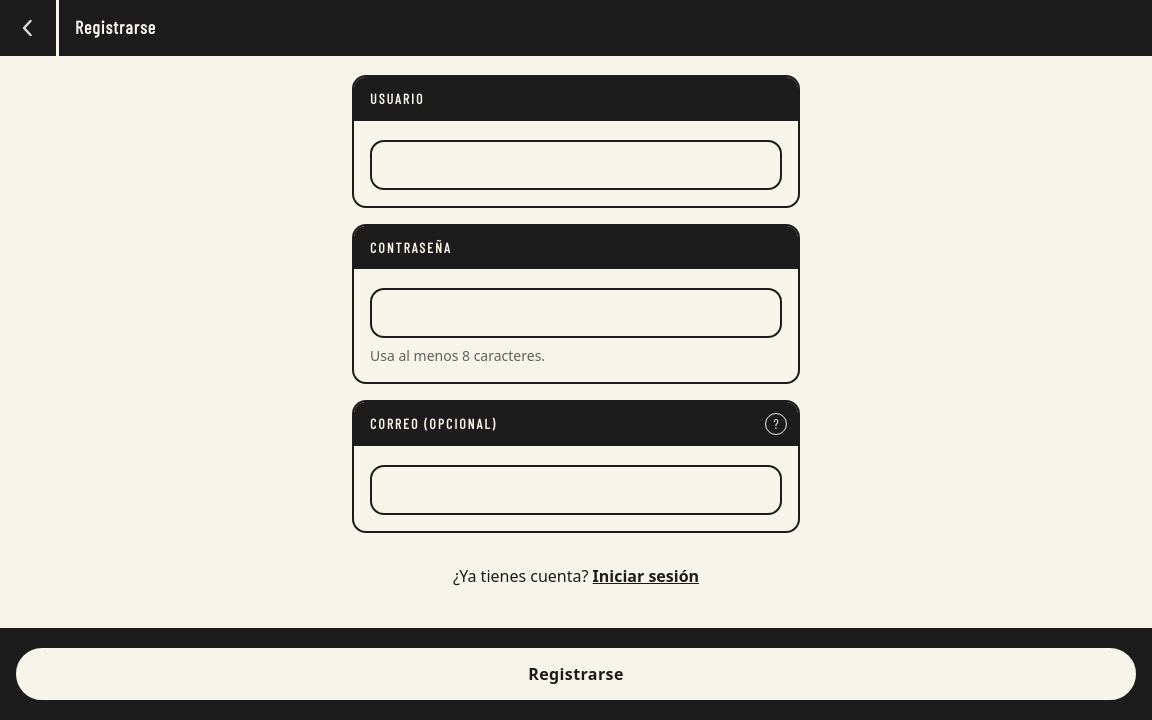
Test: AuthScreen (registrarse) › muestra el aviso del servidor y no guarda sesión
The image size is (1152, 720).
Type "juan" into the field named "Usuario" at (576, 165), box left=370, top=140, right=782, bottom=190
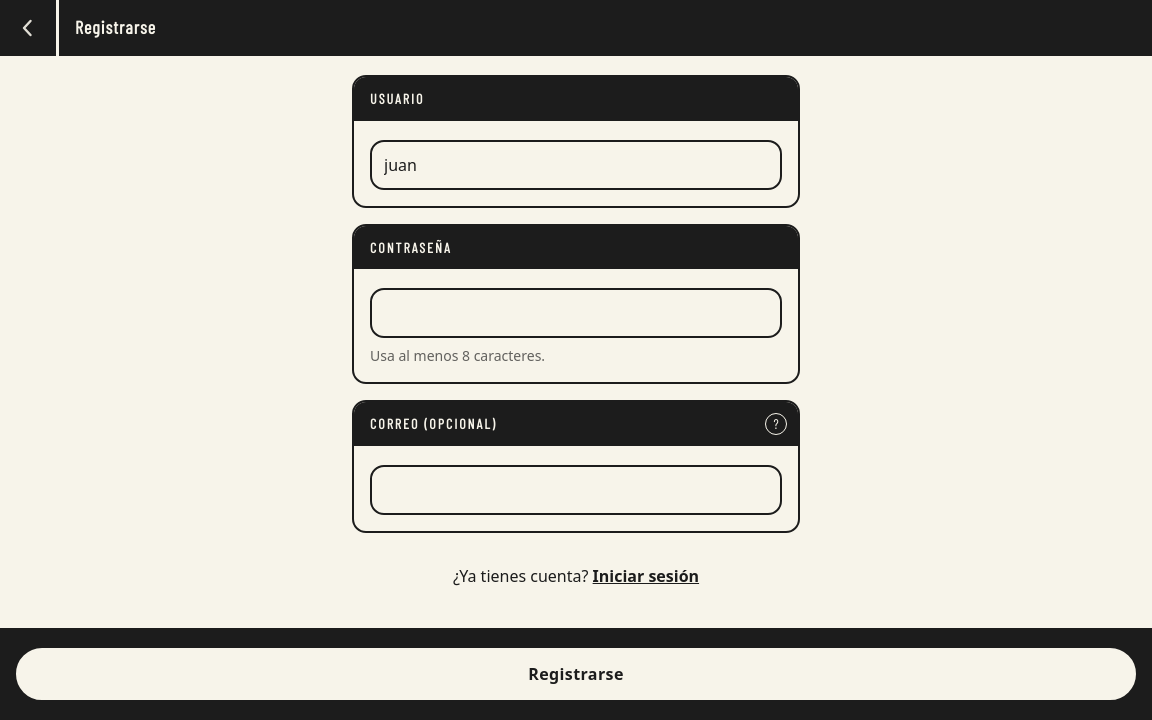
Type "contraseña-segura" into the password field named "Contraseña" at (576, 313), box left=370, top=288, right=782, bottom=338
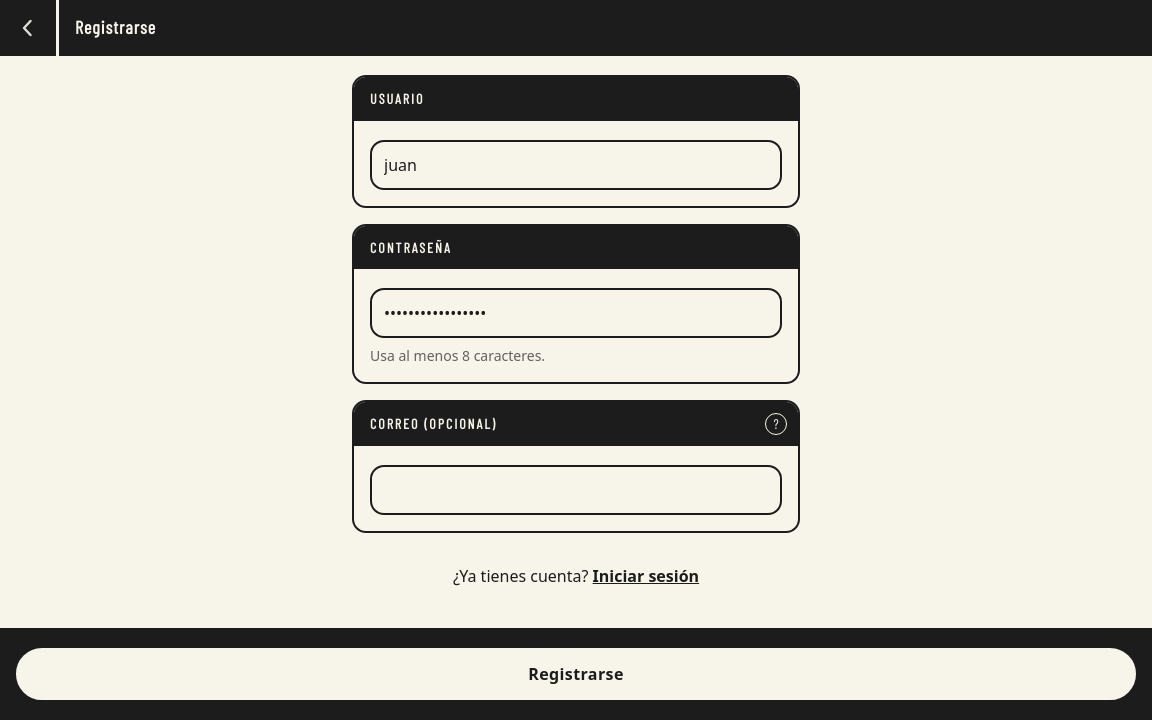
Click the button "Registrarse" at (576, 674), box left=16, top=648, right=1136, bottom=700
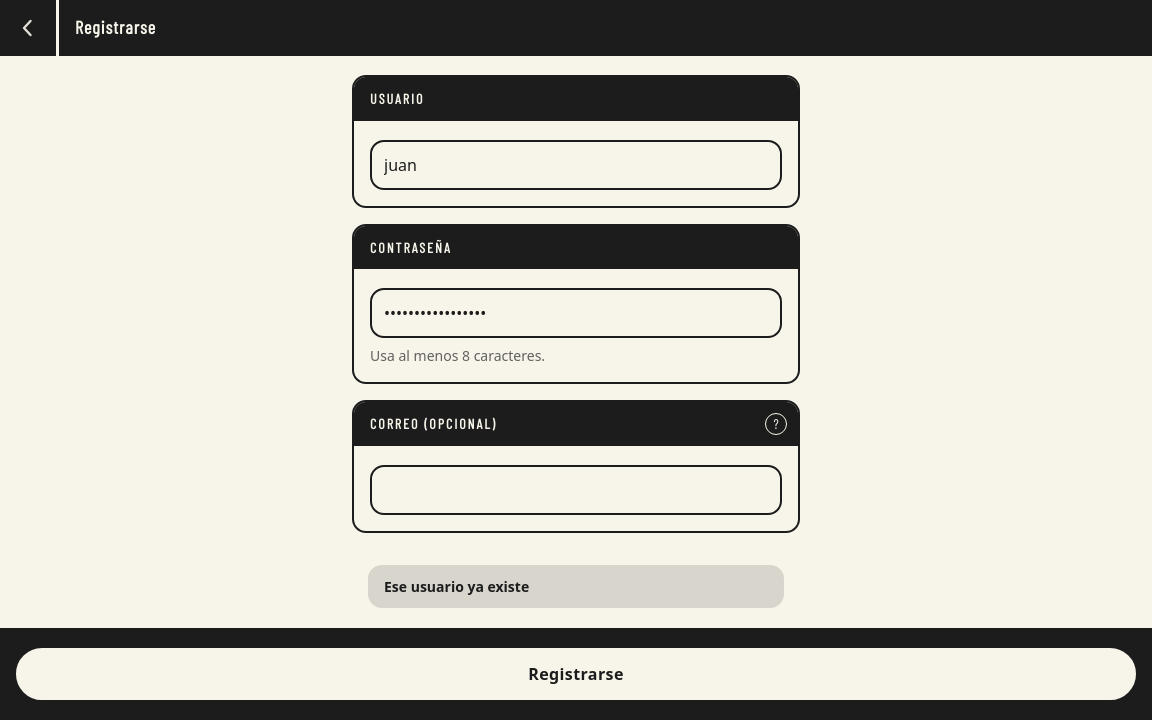
Now the message reads "Ese usuario ya existe", box left=384, top=577, right=529, bottom=596
